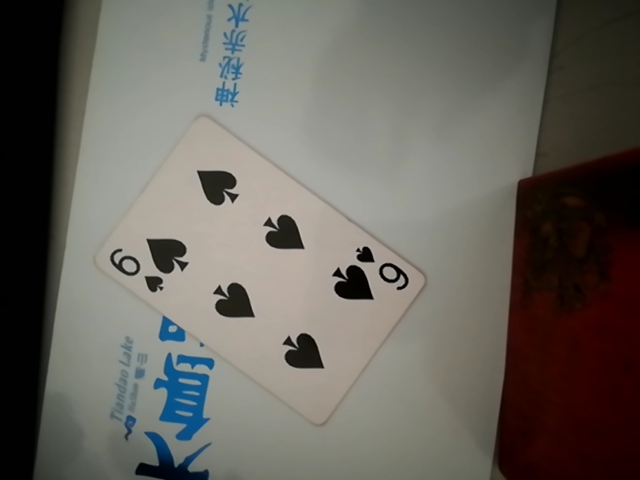ht 6: (82, 118, 433, 420)
